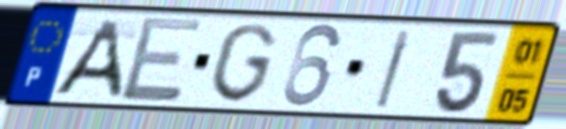5: (432, 28, 504, 116)
6: (280, 21, 344, 111)
A: (48, 16, 125, 100)
E: (117, 14, 207, 104)
G: (206, 21, 280, 106)
I: (372, 27, 417, 111)
